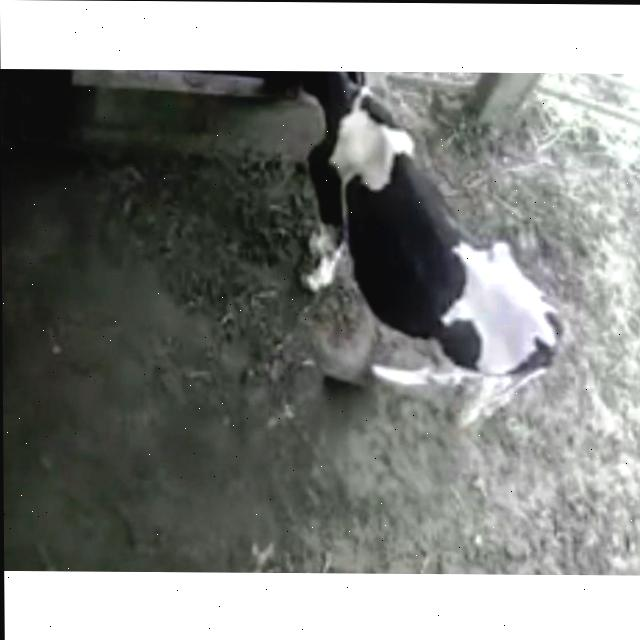drink: (260, 70, 406, 180)
